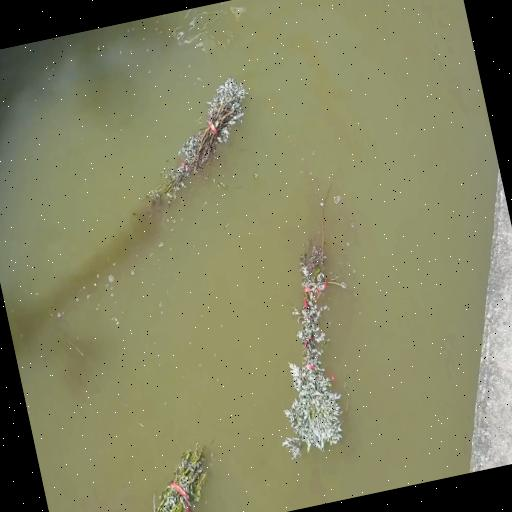twig: (283, 182, 355, 458), (146, 77, 247, 204), (151, 444, 206, 511)
